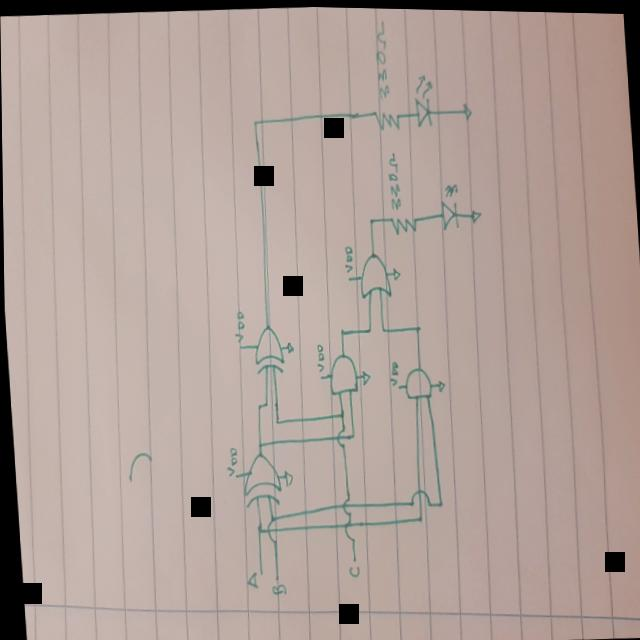crossover: (406, 488, 429, 507), (340, 516, 354, 542), (264, 515, 276, 544), (334, 428, 345, 448), (340, 496, 351, 514)
diode: (434, 178, 462, 232), (410, 70, 435, 129)
ground: (389, 262, 401, 281), (469, 204, 481, 223), (282, 467, 293, 487), (359, 366, 370, 385), (435, 375, 446, 394), (462, 102, 473, 121), (284, 340, 293, 355)
junction: (255, 399, 266, 409), (347, 430, 357, 440), (412, 322, 421, 332), (338, 325, 345, 335), (367, 215, 374, 223), (273, 415, 280, 423), (365, 324, 371, 333), (338, 409, 344, 418), (379, 326, 386, 333), (436, 499, 442, 507), (255, 526, 261, 534), (415, 514, 421, 521), (255, 440, 261, 446), (252, 118, 256, 126)
resistor: (387, 209, 418, 239), (369, 106, 401, 132)
source: (236, 343, 243, 351), (231, 473, 238, 479), (316, 373, 321, 381), (394, 383, 399, 390), (346, 275, 350, 281)
terminal: (255, 566, 264, 578), (348, 552, 357, 564), (270, 571, 279, 583)
text: (372, 18, 389, 102), (384, 149, 401, 210), (231, 308, 245, 343), (222, 445, 236, 477), (341, 244, 353, 272), (243, 568, 257, 591), (313, 343, 323, 372), (386, 359, 397, 385), (268, 581, 285, 596), (345, 563, 358, 579)
